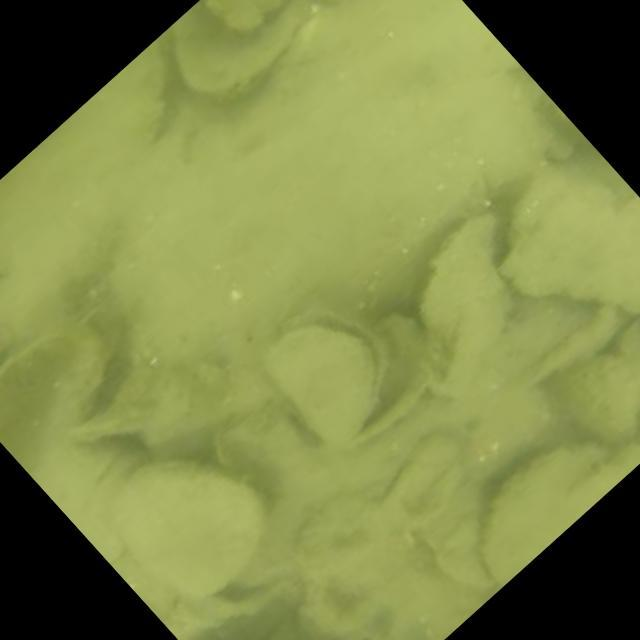Oyster- Indeterminate: (480, 443, 640, 589), (107, 461, 264, 597), (503, 169, 640, 312), (417, 469, 491, 587), (558, 356, 640, 440), (97, 56, 163, 123), (209, 0, 288, 38)
Oyster-Closed: (419, 216, 508, 392), (55, 321, 139, 433)
Oyster-Open: (256, 311, 384, 428)
